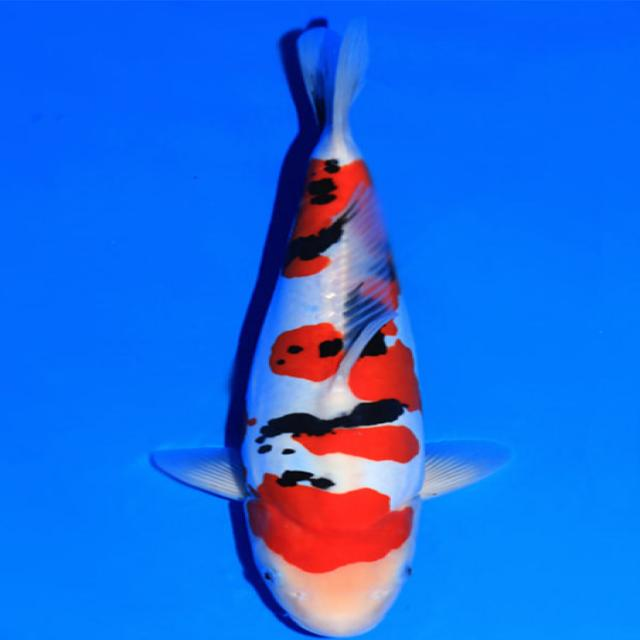Sanke: (147, 15, 510, 638)
